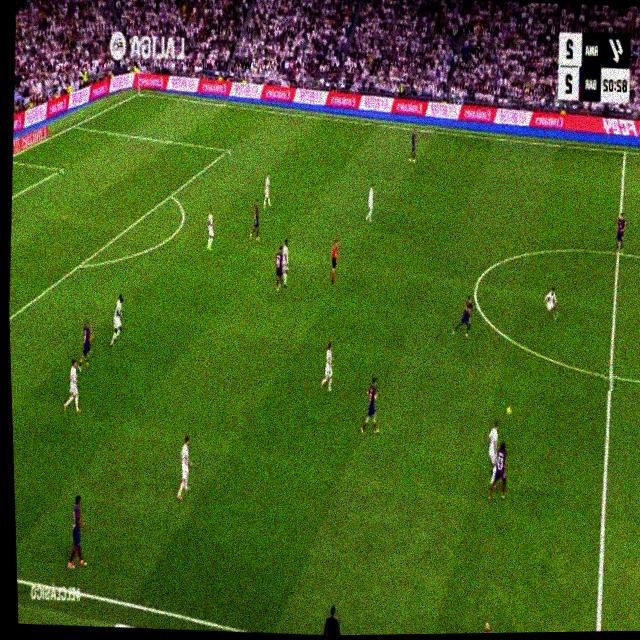bigarea_top_inner: (224, 143, 232, 157)
bigarea_top_outter: (71, 118, 78, 130)
bottom_arc_area_intersection: (76, 256, 86, 273)
corner: (135, 88, 143, 98)
halfcircle_bottom: (603, 360, 619, 391)
midline_top_intersection: (621, 145, 629, 159)
smallarea_top_inner: (57, 162, 65, 176)
top_arc_area_intersection: (168, 186, 176, 202)
